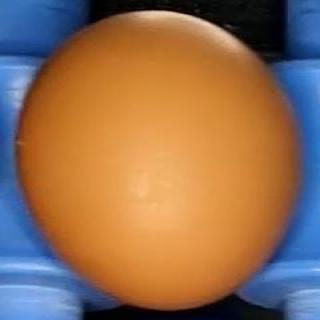Telur: (4, 7, 314, 311)
